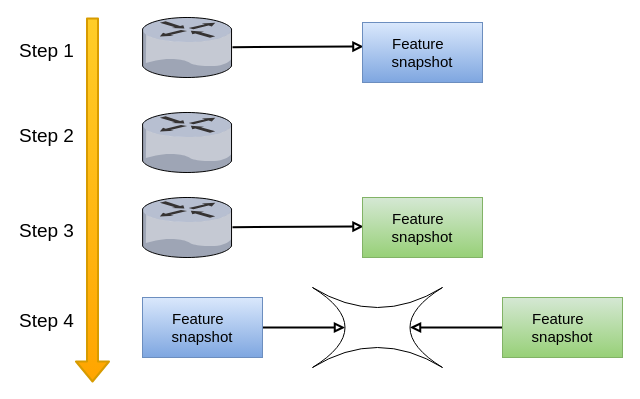
The diagram is 640 pixels wide and 399 high, and some of its shapes have lost their labels. The shapes that lost their labels are listed below. From the top down, each one's centre as x and y in pixels, then its label:
At point (187, 142): "Action".
At point (377, 327): "Compare".
